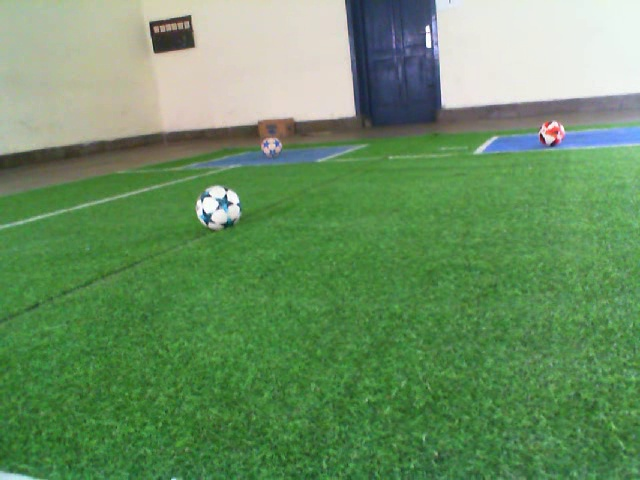ball: (193, 182, 245, 234), (536, 118, 569, 150), (259, 135, 286, 161)
